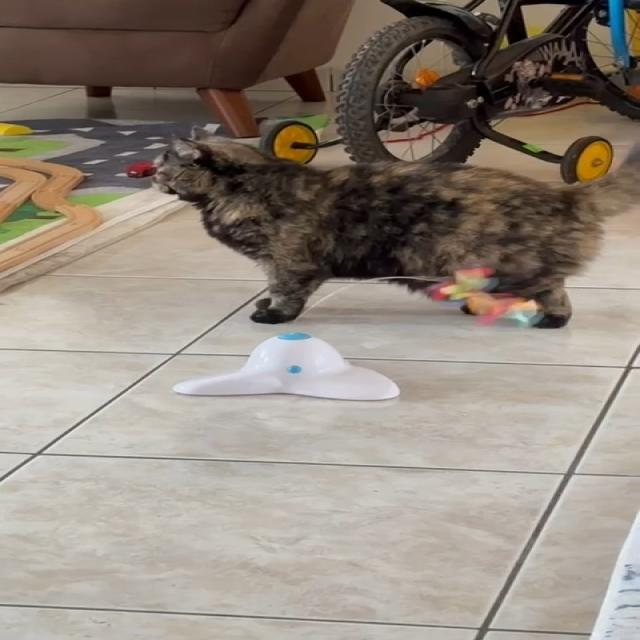authorized: (148, 125, 639, 328)
